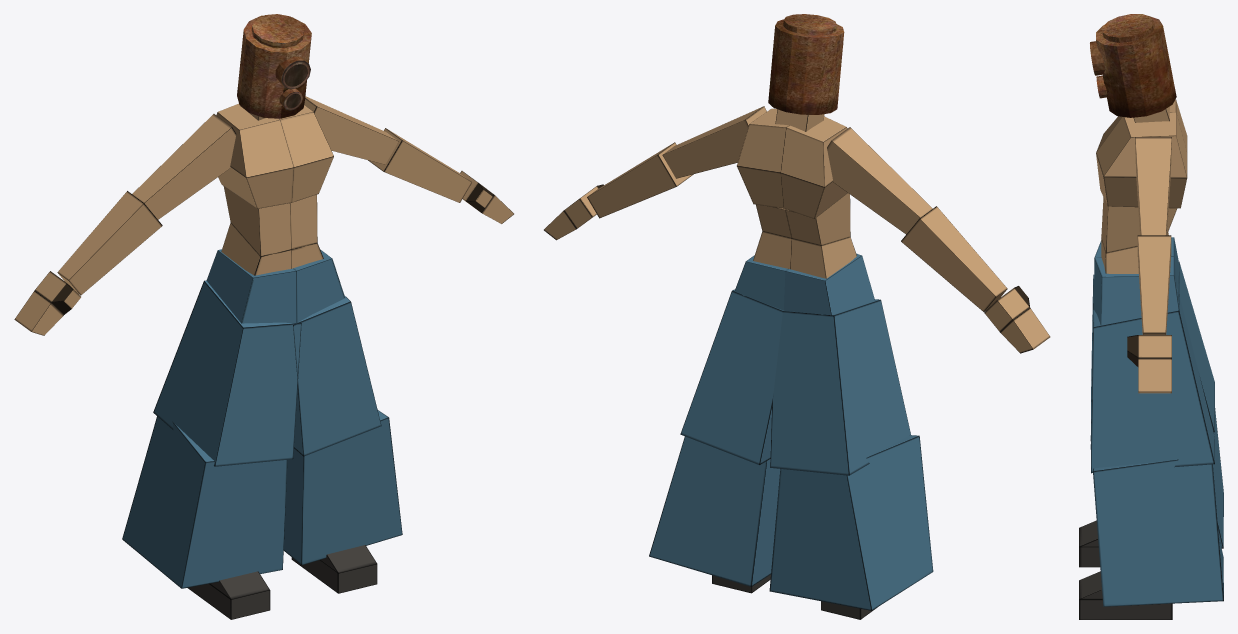
The model's file is Man.fbx.
The picture shows the model from 3 angles, left to right: view 1: azimuth 30°, elevation 25°; view 2: azimuth 150°, elevation 25°; view 3: azimuth 270°, elevation 25°; orthographic projection.
Visible parts, largest first — view 1: Cube.018; view 2: Cube.018; view 3: Cube.018.
Boxes of the visible parts, x1,y1,x2,y2 form: Cube.018: (14, 14, 513, 619); Cube.018: (544, 14, 1050, 619); Cube.018: (1079, 14, 1223, 619).
Bounding box in the file's own units: 1227 × 1359 × 318.
1 material, 1 textured.
